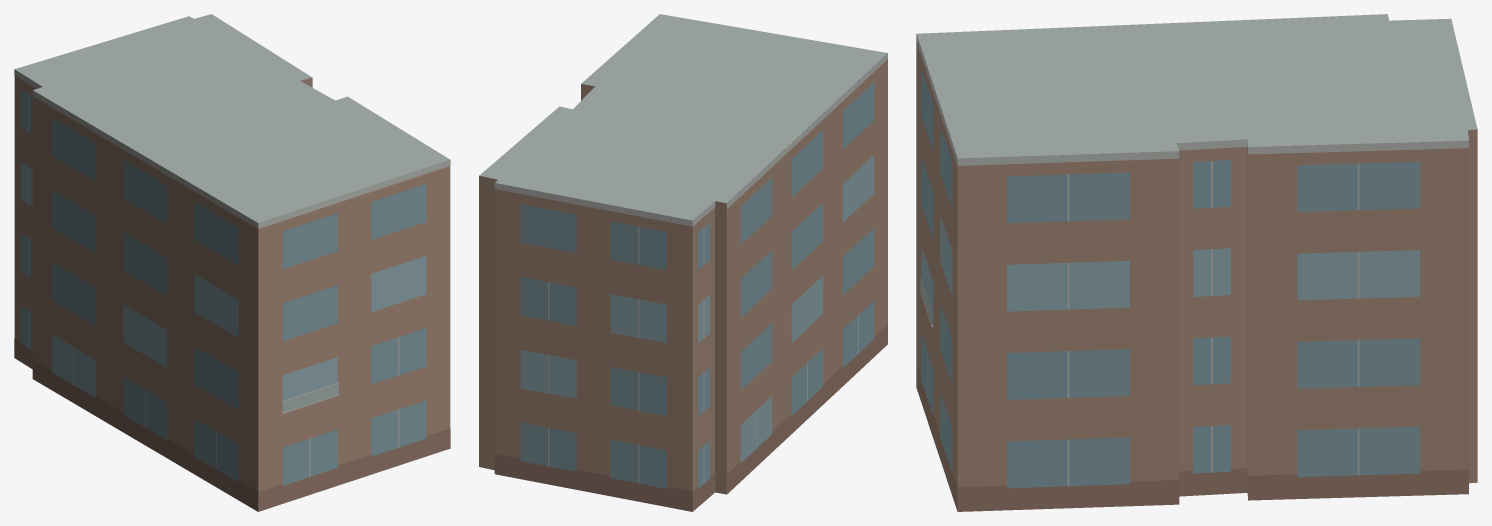
File: survey-upis-32610036.glb
3 views of the same model, side by side, from view 1: azimuth 30°, elevation 25°; view 2: azimuth 150°, elevation 25°; view 3: azimuth 270°, elevation 25° (orthographic). The views are drawn at different scales.
Visible parts, largest first — view 1: survey-upis-32610036.tmp; view 2: survey-upis-32610036.tmp; view 3: survey-upis-32610036.tmp.
Part boxes in pixels (x1,y1,x2,y2): survey-upis-32610036.tmp: (14,14,450,511); survey-upis-32610036.tmp: (479,14,887,511); survey-upis-32610036.tmp: (916,14,1477,511).
Size of the model in its own units: 10.18 by 11.6 by 16.71.
